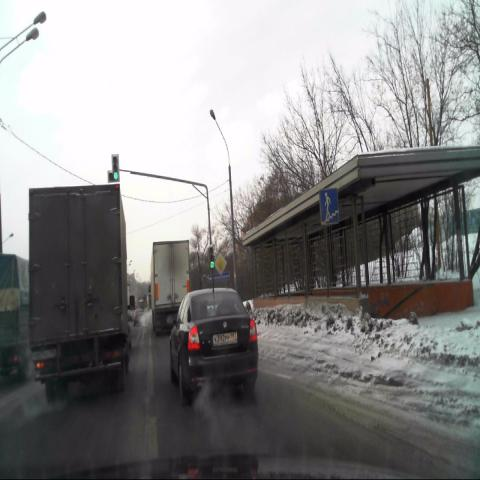6_6: (319, 187, 339, 225)
